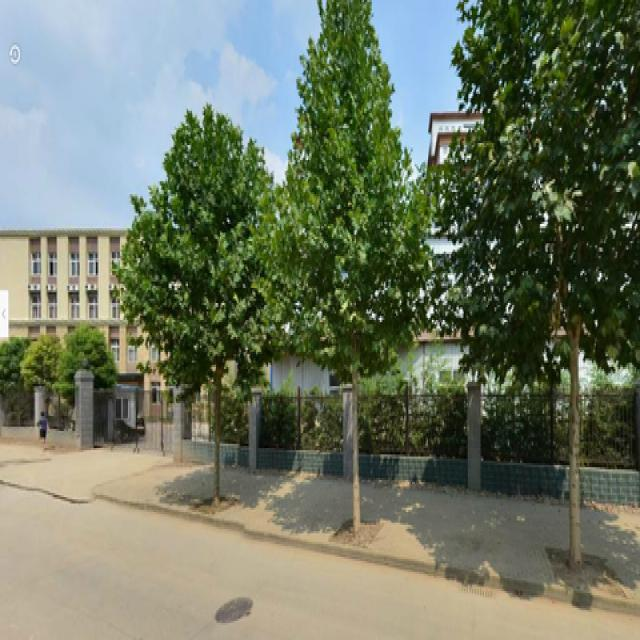meta: (121, 111, 282, 508)
